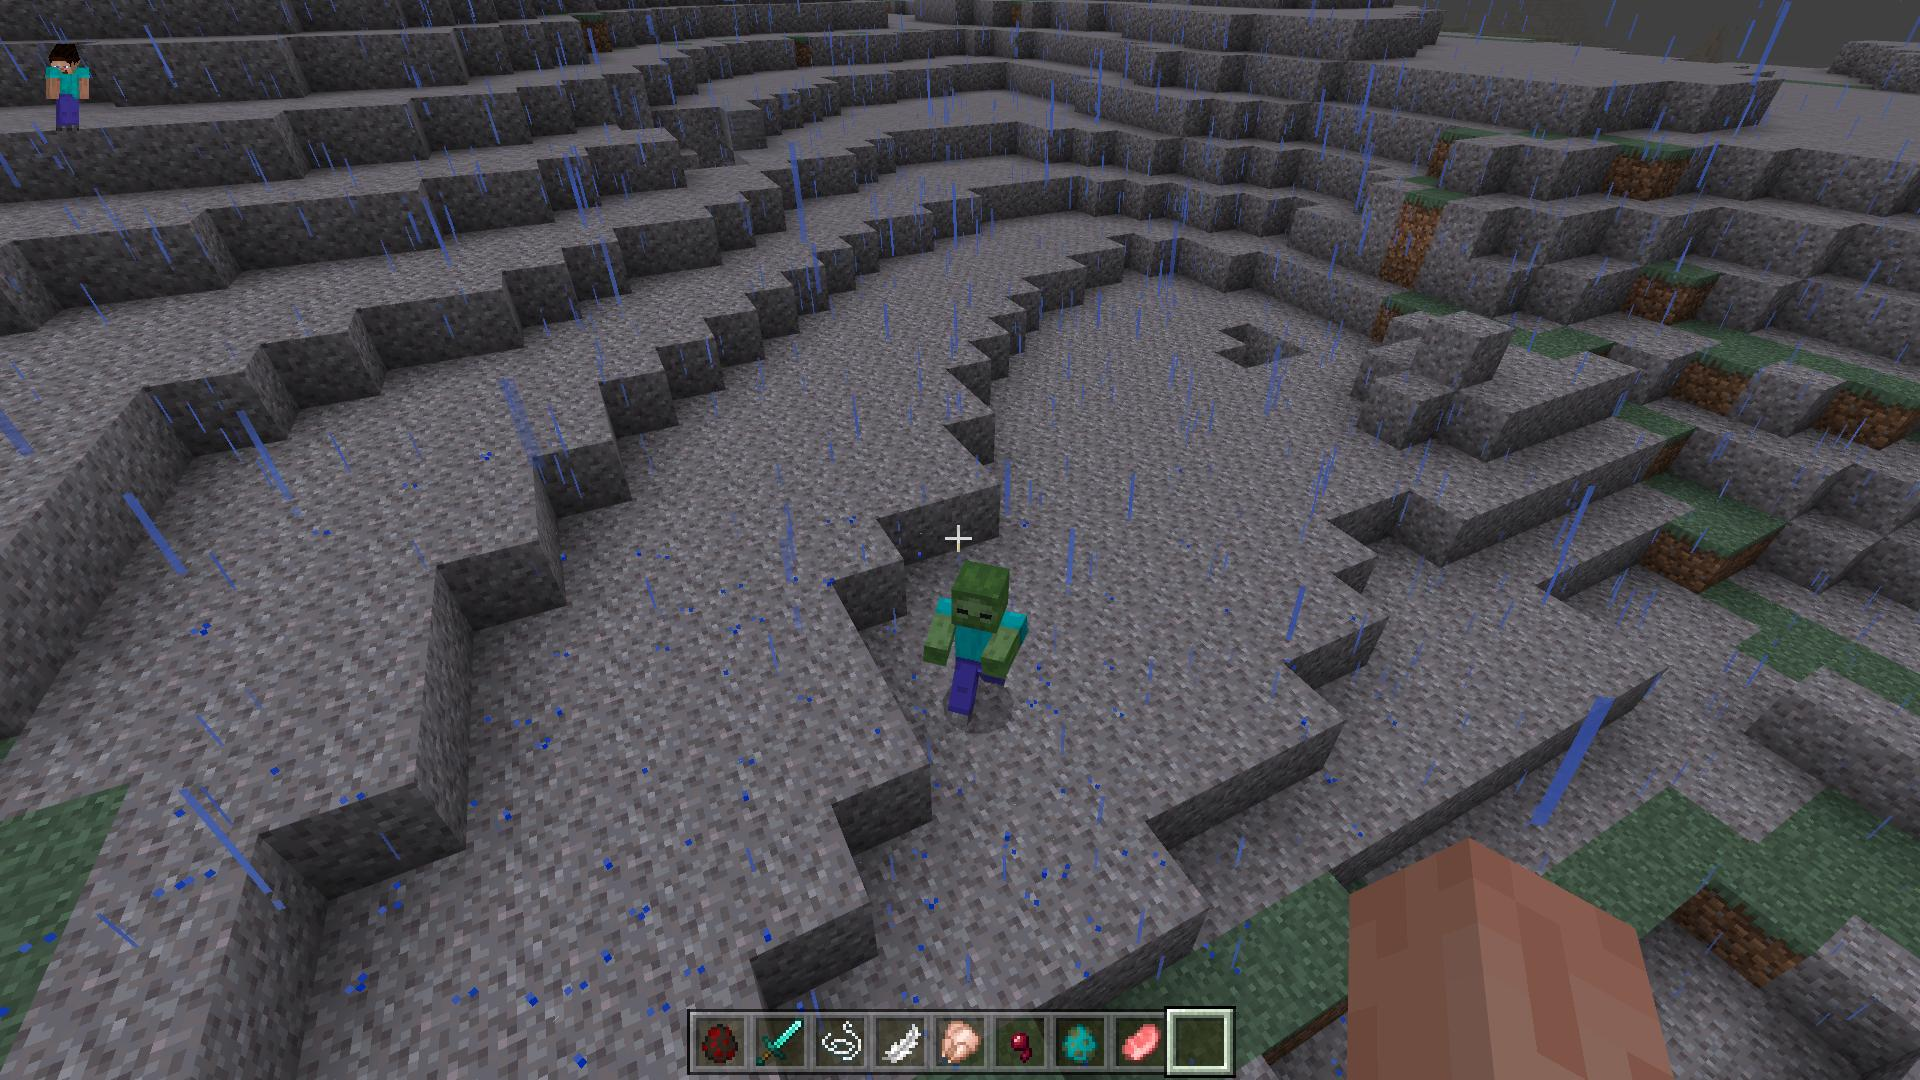zombie: (922, 558, 1025, 725)
